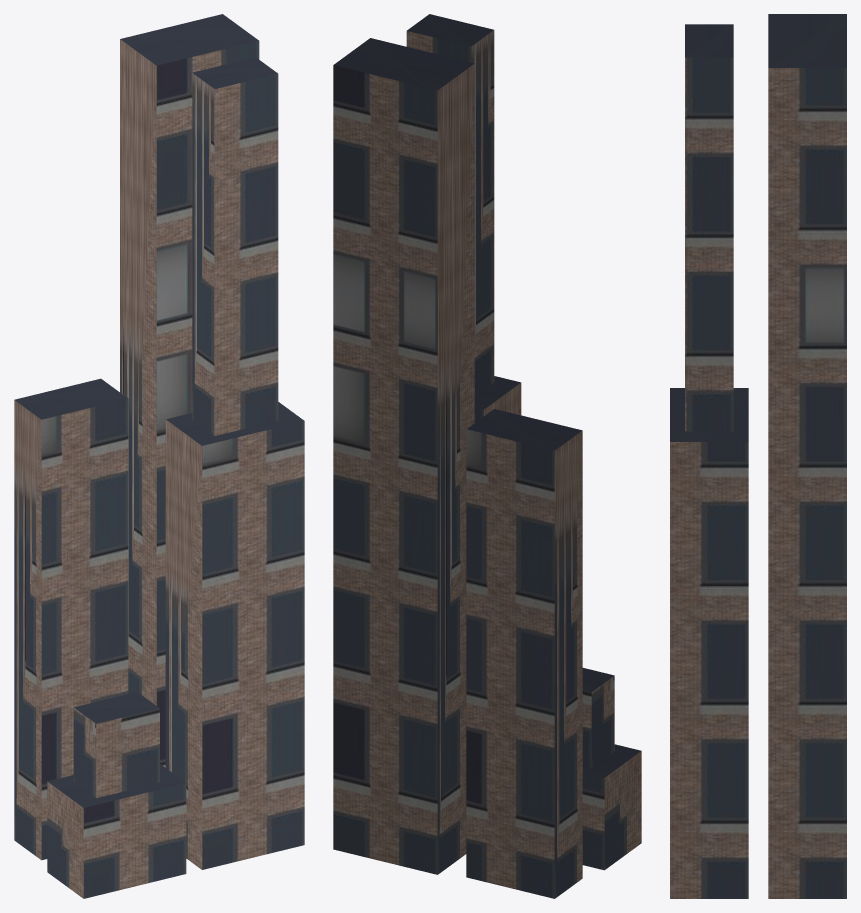
File: city_block_12345_6_04.glb
3 views of the same model, side by side, from view 1: azimuth 30°, elevation 25°; view 2: azimuth 150°, elevation 25°; view 3: azimuth 270°, elevation 25° (orthographic). The views are drawn at different scales.
Parts seen in each view (by area): view 1: block_04; view 2: block_04; view 3: block_04.
Part boxes in pixels (x1=…): block_04: x1=14, y1=14, x2=304, y2=898; block_04: x1=333, y1=14, x2=641, y2=898; block_04: x1=670, y1=14, x2=846, y2=898.
Size of the model in its own units: 4.2 by 14 by 2.7.
4 materials, 4 textured.
